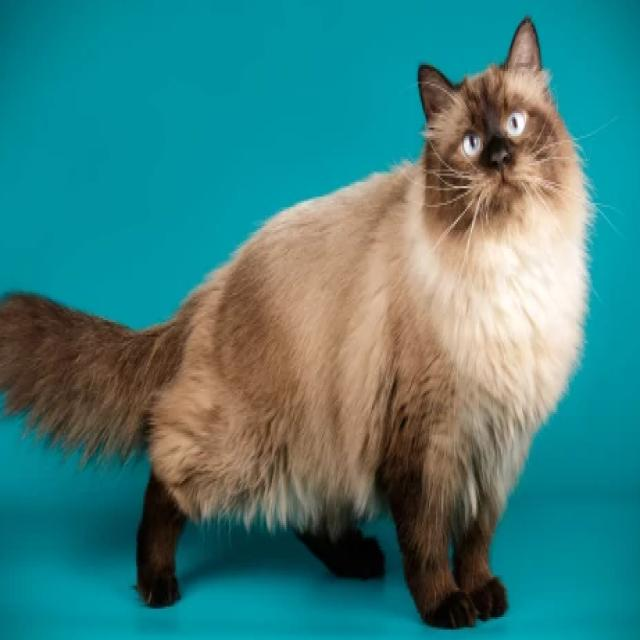Neva Masquerade: (0, 8, 596, 634)
